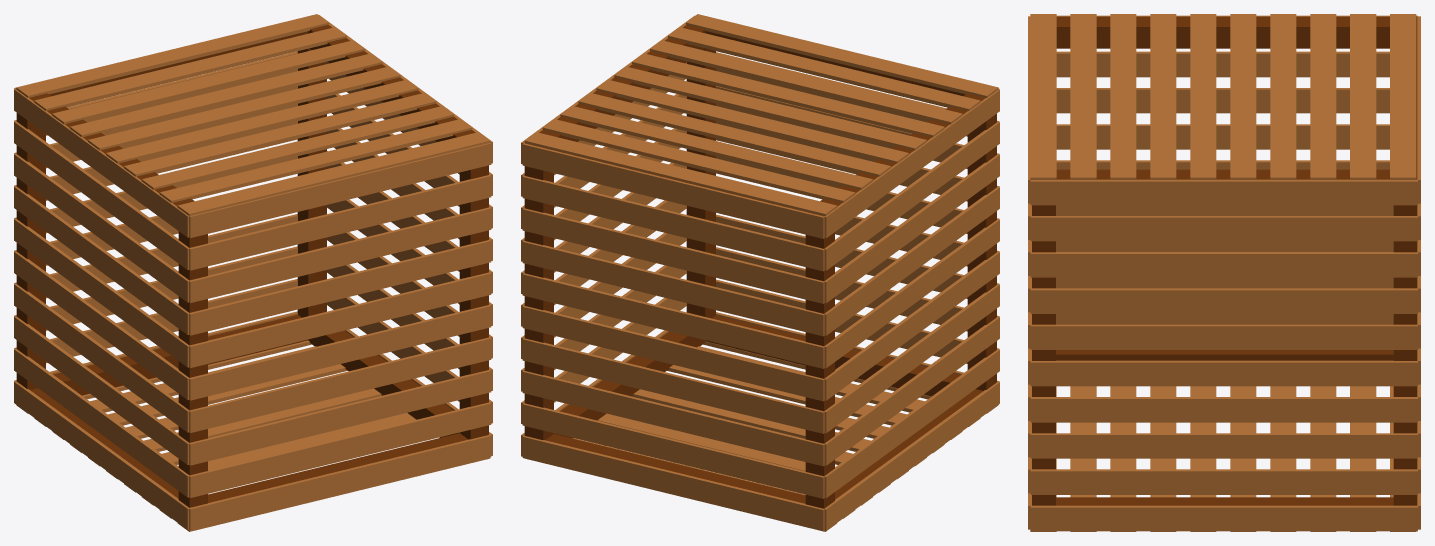
File: CajaMovible.fbx
3 renders of one model, left to right at view 1: azimuth 30°, elevation 25°; view 2: azimuth 150°, elevation 25°; view 3: azimuth 270°, elevation 25°, orthographic. The views are drawn at different scales.
Parts seen in each view (by area): view 1: Cube; view 2: Cube; view 3: Cube.
Part boxes in pixels (x1,y1,x2,y2): Cube: (14,14,492,531); Cube: (521,14,999,531); Cube: (1028,14,1420,531).
Bounding box in the file's own units: 204 × 203 × 204.
